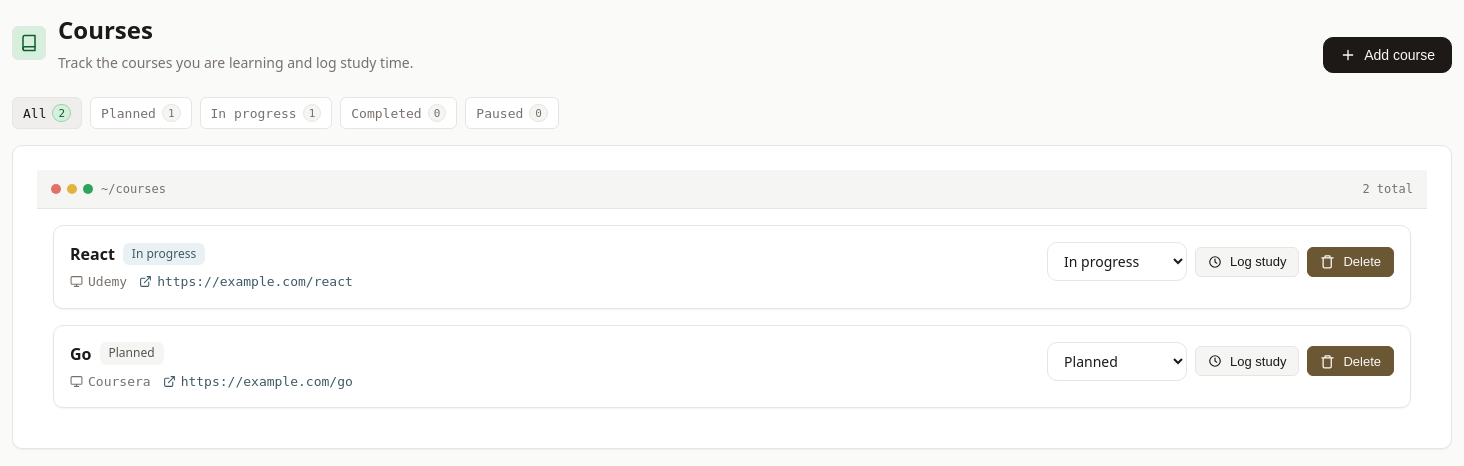
CoursesPage › filters by status, requesting the status query param
Expected: the heading "React In progress" is shown, [70,243,205,265]
Click the button "Planned 1": coordinates (141, 113) [90,97,192,129]
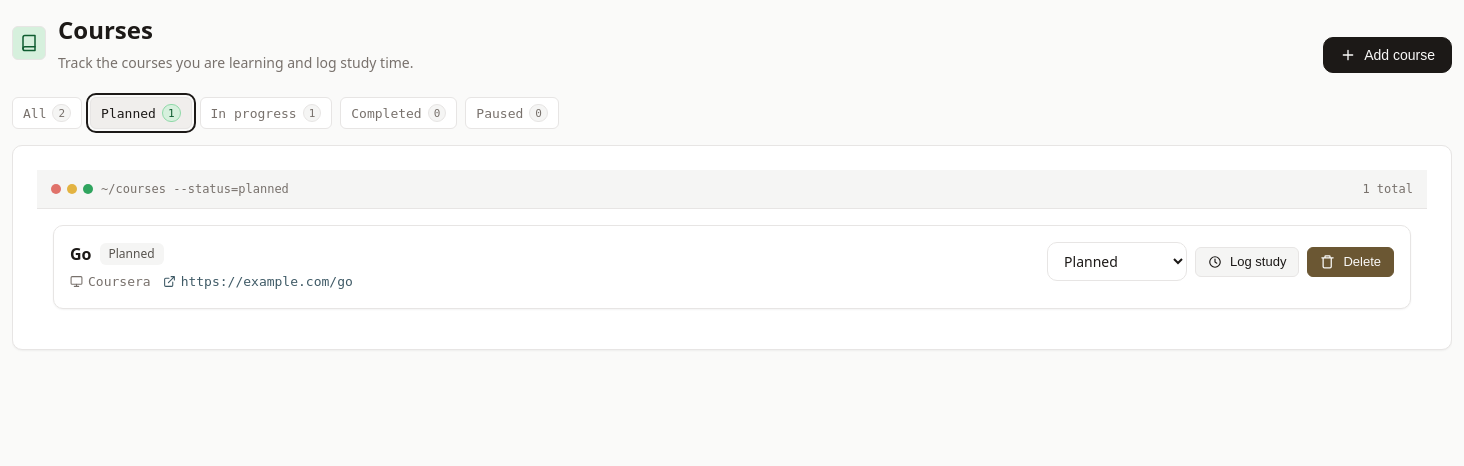
Expected: the heading "Go Planned" is shown, [70,243,164,265]
Result: the heading "React" is gone
